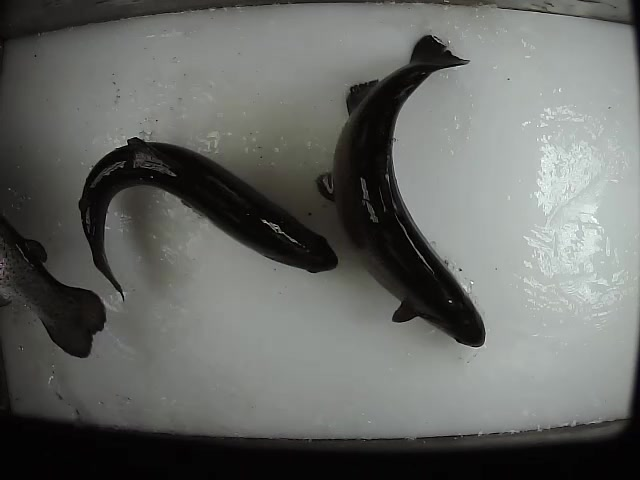fish: (315, 31, 485, 355), (76, 129, 340, 304), (2, 216, 121, 360)
